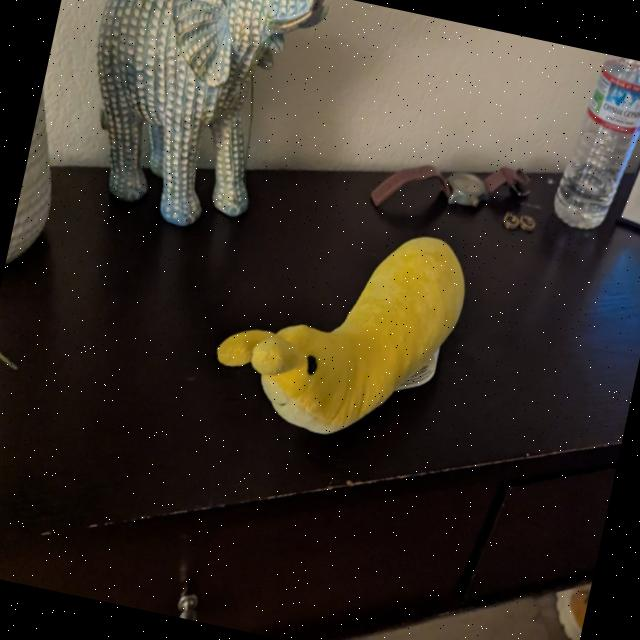banana-slug-toy: (190, 184, 491, 470)
